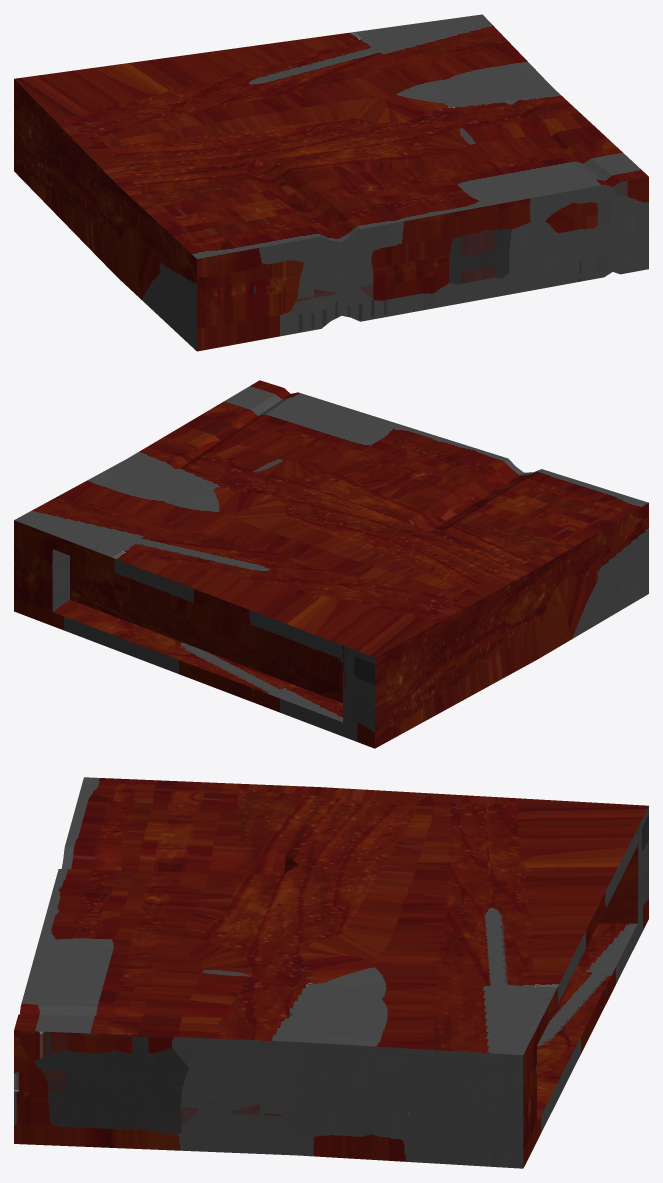
Rendered from MagM1A.fbx.
3 renders of one model, top to bottom at view 1: azimuth 30°, elevation 25°; view 2: azimuth 150°, elevation 25°; view 3: azimuth 270°, elevation 25°, orthographic. The views are drawn at different scales.
Visible parts, largest first — view 1: Cube; view 2: Cube; view 3: Cube.
Part boxes in pixels (x1,y1,x2,y2): Cube: (14, 14, 648, 351); Cube: (14, 380, 648, 748); Cube: (14, 777, 648, 1168).
Bounding box in the file's own units: 0.0874 × 0.0166 × 0.0843.
